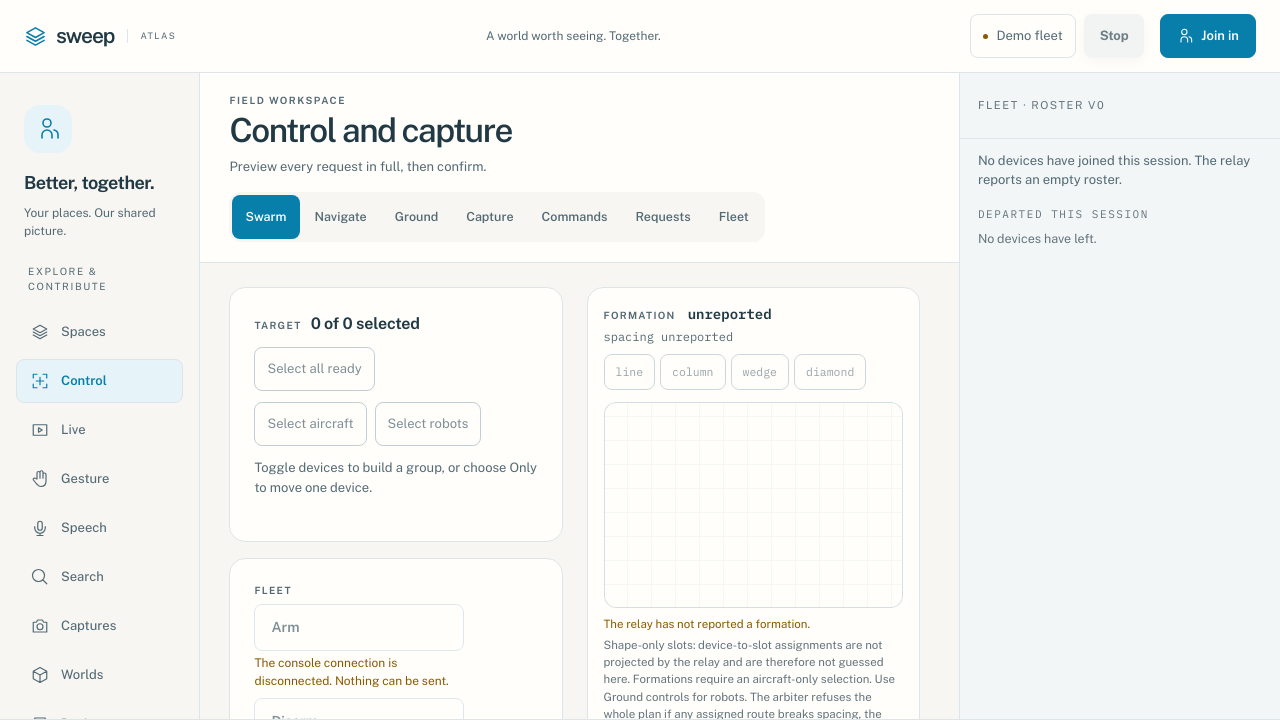
Test: Worlds module › degraded: the console link is down, so submit and retry are refused while the snapshot stays
Click the button "Worlds" at (100, 675), box left=16, top=653, right=183, bottom=697
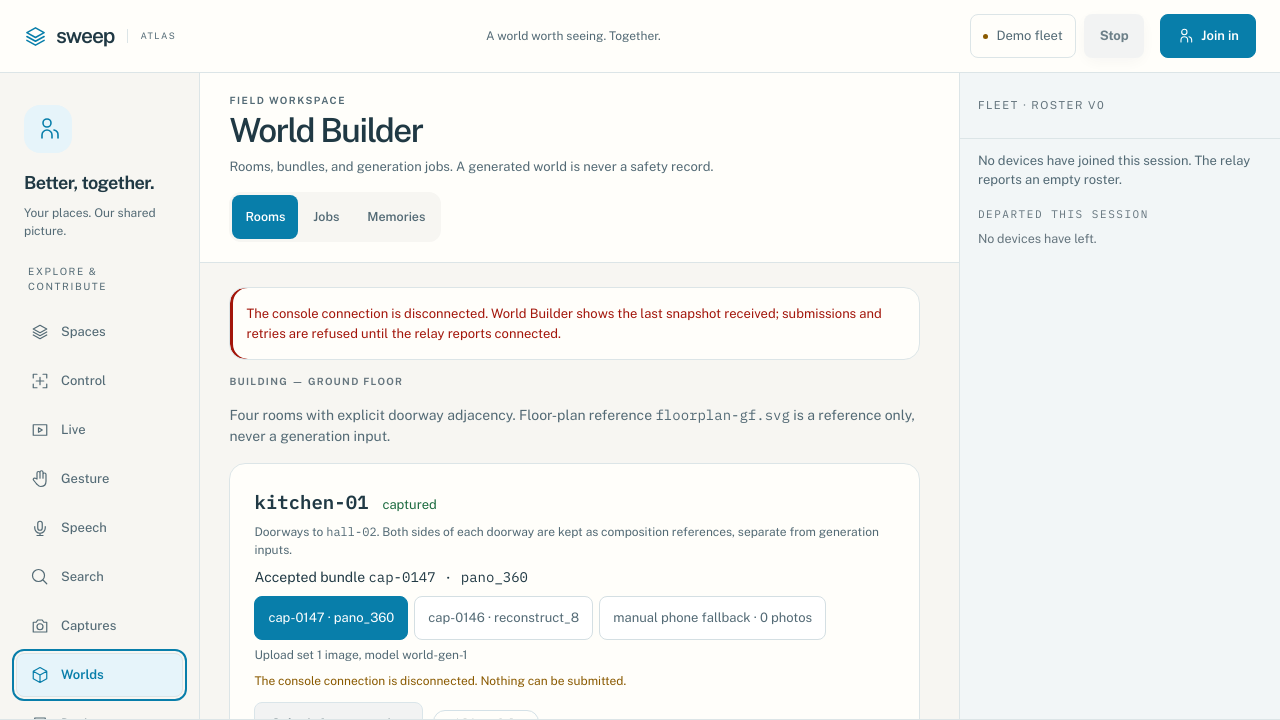
expect the message named "World Builder connection" shows "The console connection is disconnected. World Builder shows the last snapshot received; submissions and retries are refused until the relay reports connected.": met, box left=246, top=306, right=882, bottom=341
Click the button "Jobs" at (326, 217), box left=300, top=195, right=352, bottom=239
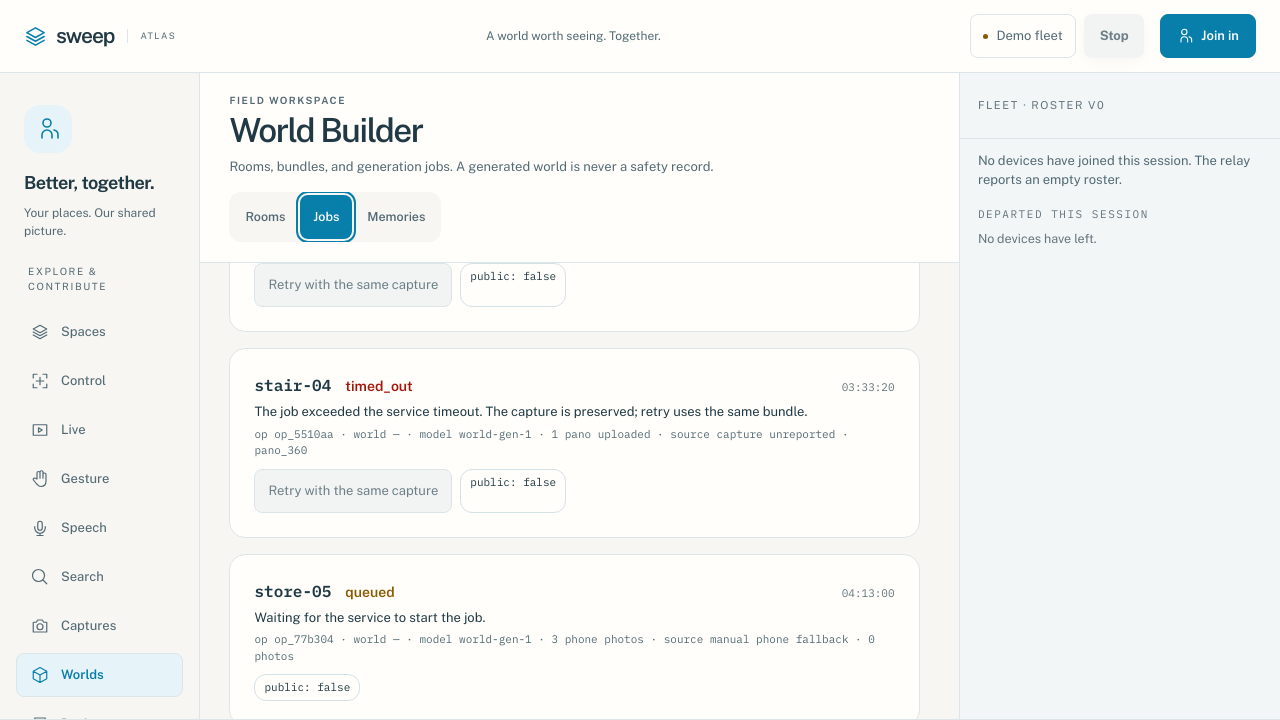
expect the 1st button "Retry with the same capture" is disabled: met, box left=254, top=263, right=452, bottom=307
expect the button "Retry with the same capture" below "op_5510aa" is disabled: met, box left=254, top=469, right=452, bottom=513
